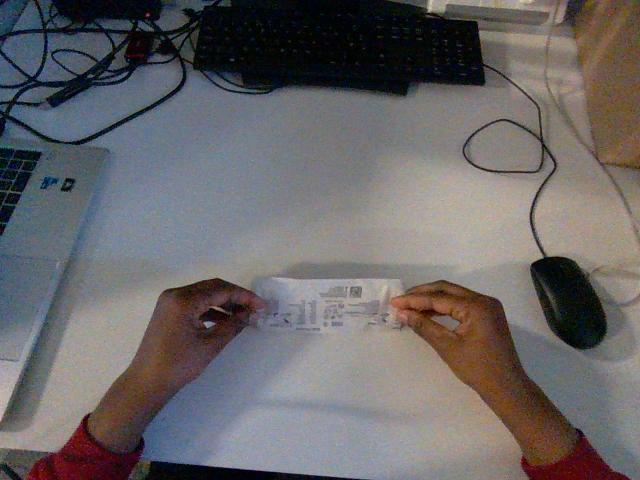syringe: (251, 277, 402, 334)
